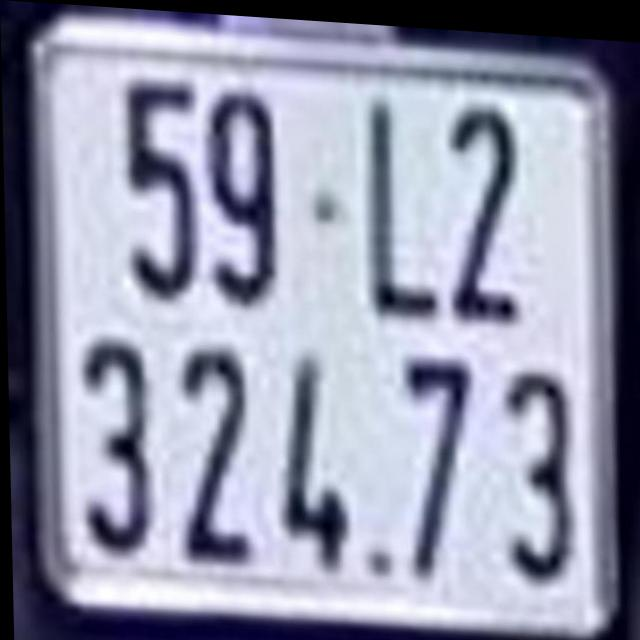2: (451, 98, 519, 316), (179, 340, 247, 556)
3: (75, 336, 151, 549), (501, 361, 573, 577)
4: (278, 348, 344, 567)
5: (126, 75, 198, 297)
7: (406, 351, 468, 575)
9: (206, 81, 283, 307)
L: (363, 91, 440, 310)
